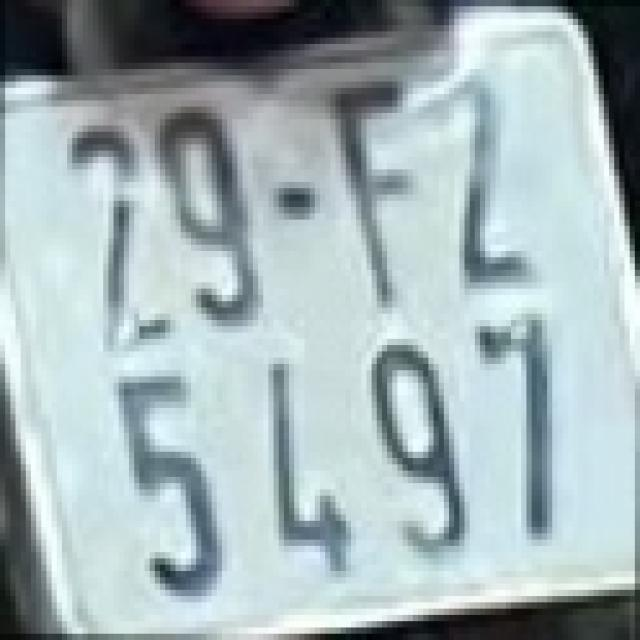1: (478, 304, 580, 543)
2: (62, 119, 175, 345), (431, 62, 544, 288)
4: (250, 354, 359, 580)
5: (111, 364, 230, 602)
9: (364, 332, 472, 558), (162, 103, 266, 330)
F: (333, 75, 426, 308)
